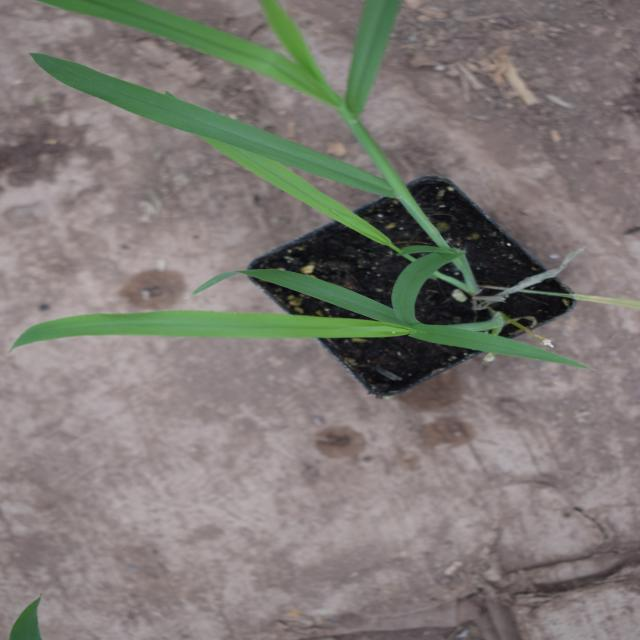crabgrass: (415, 43, 640, 454), (273, 4, 405, 552)
